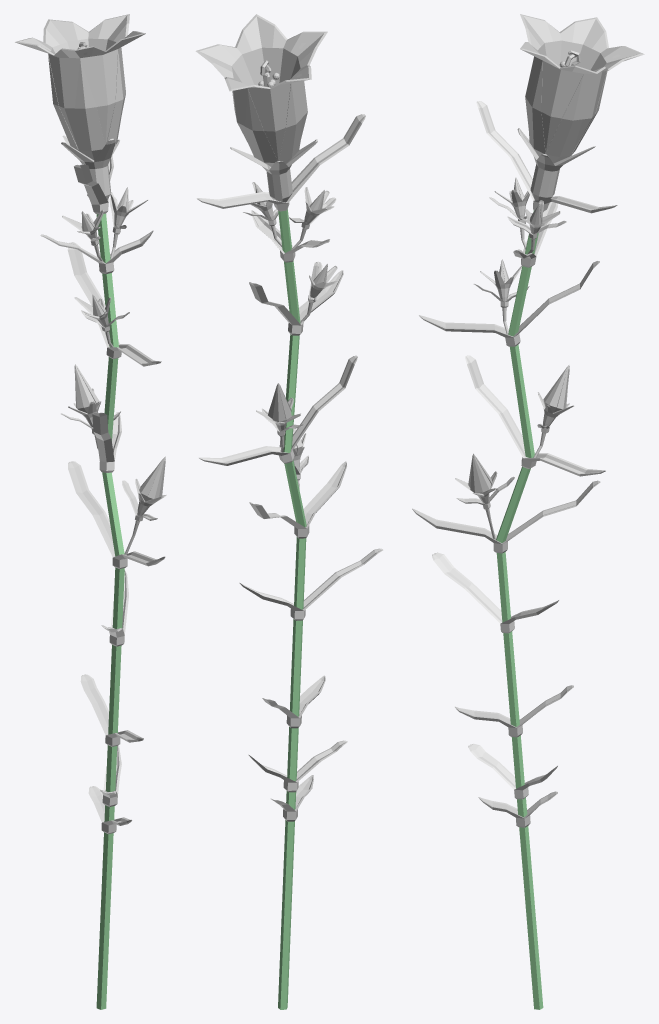
Rendered from Ensian.fbx.
3 renders of one model, left to right at view 1: azimuth 30°, elevation 25°; view 2: azimuth 150°, elevation 25°; view 3: azimuth 270°, elevation 25°, orthographic.
Visible parts, largest first — view 1: Big petals, Stem, Big leaves 2, Sepals, Big leaves 1, Outer petals, Big buds, Small leaves 2, Small buds; view 2: Big petals, Stem, Big leaves 1, Big leaves 2, Sepals, Outer petals, Big buds; view 3: Big petals, Stem, Big leaves 1, Big leaves 2, Sepals, Outer petals, Big buds, Small leaves 2.
Boxes of the visible parts, x1,y1,x2,y2 form: Big petals: [15, 14, 145, 147]; Stem: [96, 213, 124, 1009]; Big leaves 2: [40, 230, 165, 834]; Sepals: [61, 135, 166, 559]; Big leaves 1: [74, 156, 128, 806]; Outer petals: [48, 50, 124, 160]; Big buds: [74, 364, 165, 501]; Small leaves 2: [81, 197, 157, 521]; Small buds: [81, 187, 128, 316]; Big petals: [195, 14, 327, 160]; Stem: [278, 209, 306, 1009]; Big leaves 1: [196, 114, 383, 792]; Big leaves 2: [249, 210, 346, 821]; Sepals: [230, 139, 337, 489]; Outer petals: [232, 83, 302, 166]; Big buds: [268, 383, 302, 454]; Big petals: [520, 14, 644, 152]; Stem: [496, 210, 543, 1009]; Big leaves 1: [432, 101, 617, 799]; Big leaves 2: [412, 202, 600, 827]; Sepals: [455, 128, 595, 539]; Outer petals: [528, 62, 607, 163]; Big buds: [468, 365, 569, 494]; Small leaves 2: [456, 216, 566, 509].
Bounding box in the file's own units: 52.34 × 420 × 90.85.
